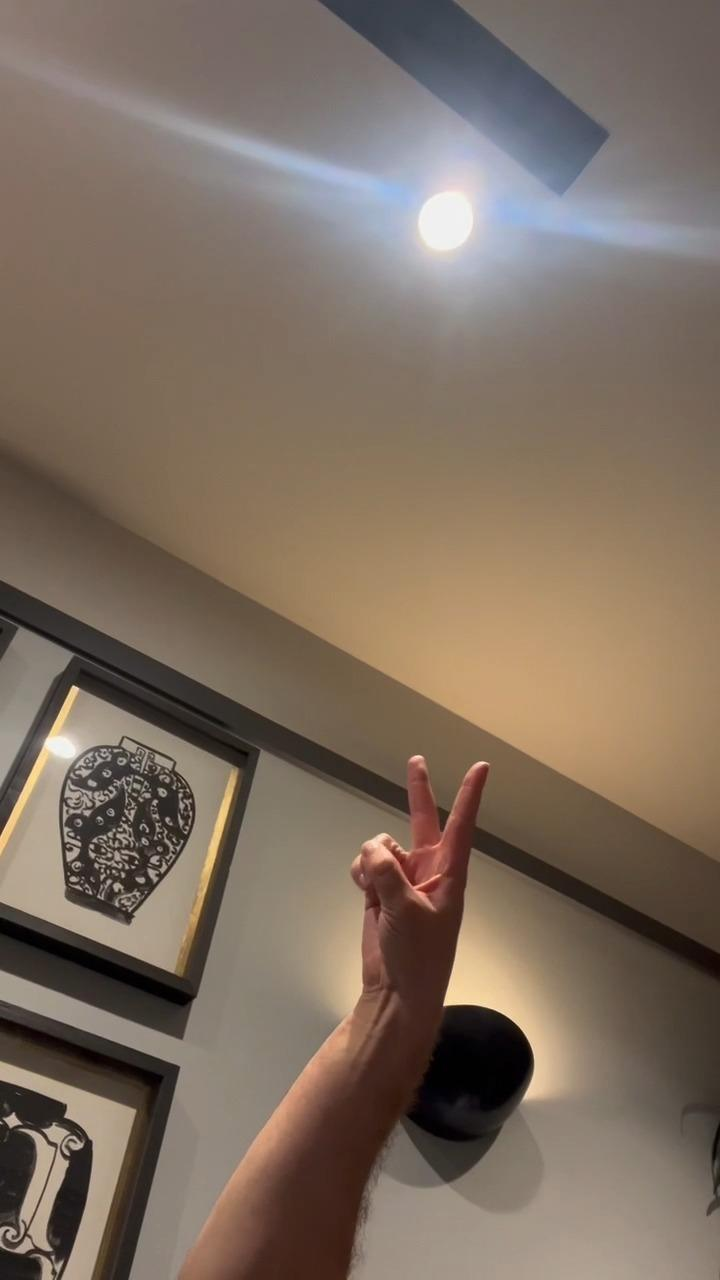Scissors: (354, 750, 493, 1009)
